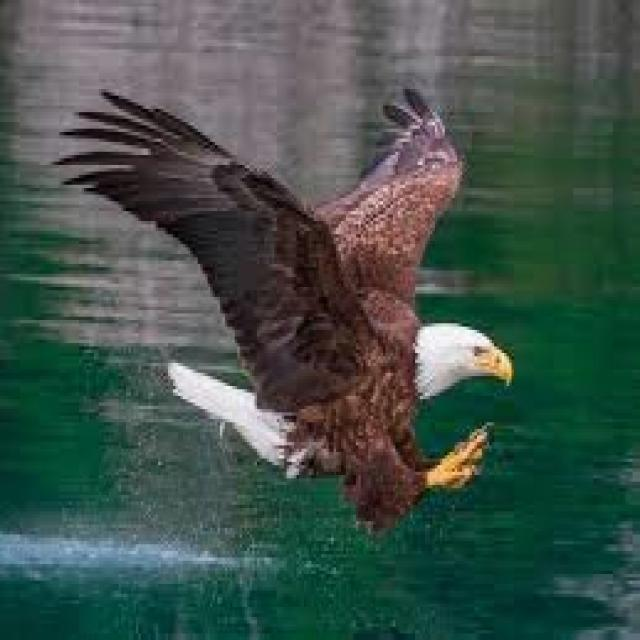eagle: (59, 89, 512, 528)
